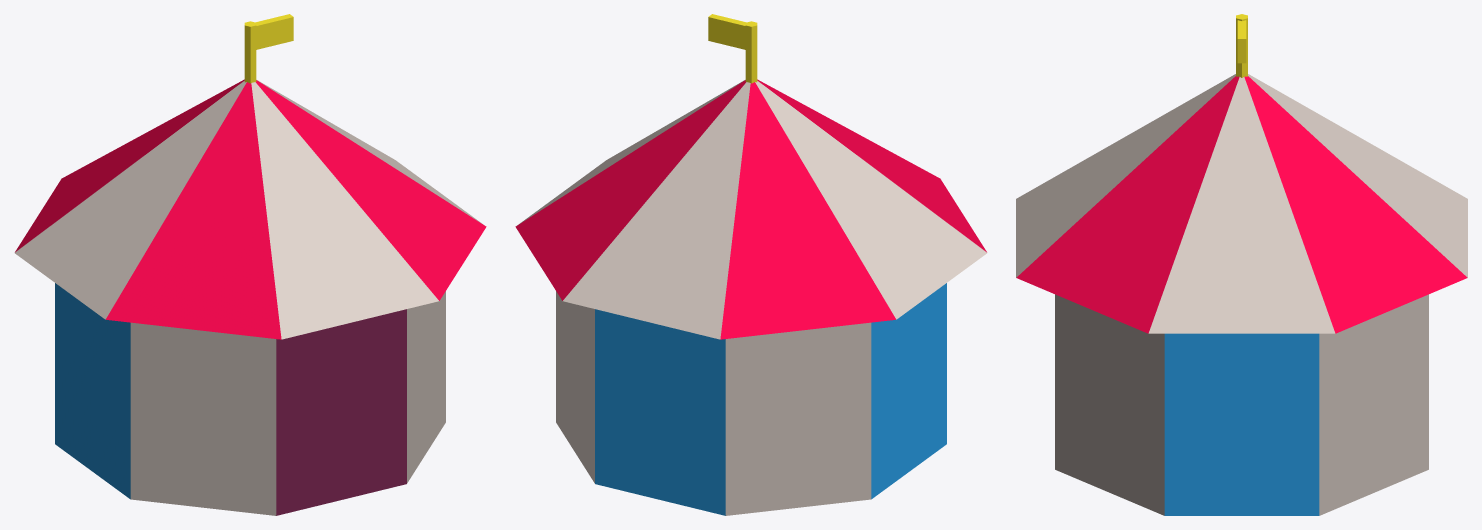
The model's file is tent.glb.
3 renders of one model, left to right at view 1: azimuth 30°, elevation 25°; view 2: azimuth 150°, elevation 25°; view 3: azimuth 270°, elevation 25°, orthographic. The views are drawn at different scales.
Visible parts, largest first — view 1: Roof, Wall, Pennant, Pole; view 2: Roof, Wall, Pennant, Pole; view 3: Roof, Wall.
Part boxes in pixels (left/top/right/bottom): Roof: left=14, top=79, right=486, bottom=339; Wall: left=55, top=283, right=445, bottom=515; Pennant: left=255, top=14, right=293, bottom=49; Pole: left=244, top=21, right=256, bottom=83; Roof: left=515, top=79, right=987, bottom=339; Wall: left=556, top=283, right=946, bottom=515; Pennant: left=708, top=14, right=746, bottom=49; Pole: left=745, top=21, right=757, bottom=83; Roof: left=1016, top=74, right=1467, bottom=333; Wall: left=1055, top=294, right=1428, bottom=515.
Size of the model in its own units: 2.68 by 2.75 by 2.68.
